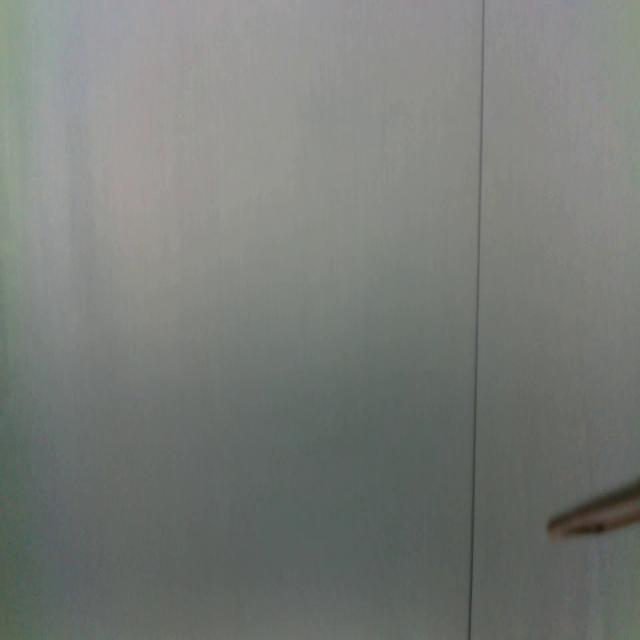crease: (466, 0, 486, 640)
